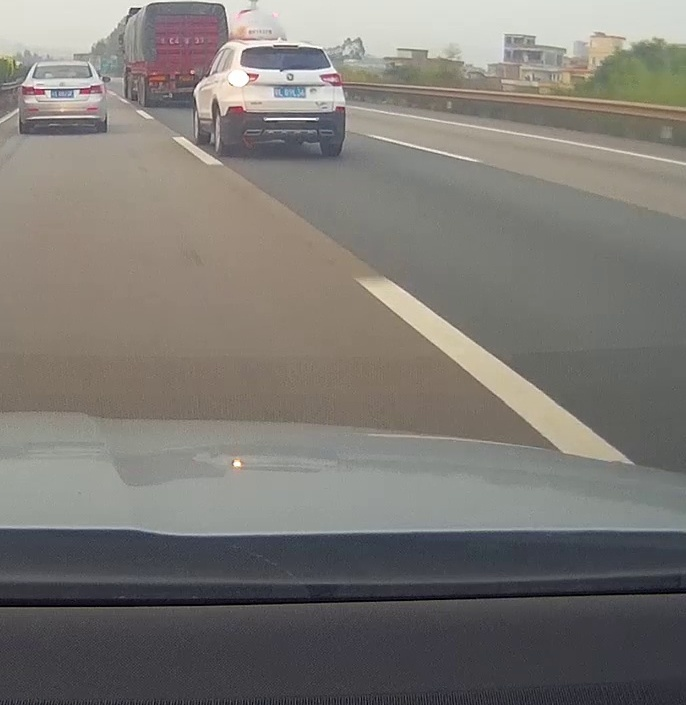L_light: (229, 70, 259, 87), (22, 86, 45, 95)
R_light: (320, 72, 343, 86), (79, 83, 104, 94)
T_light: (273, 44, 299, 49), (57, 64, 67, 67)
day-left: (227, 40, 345, 156)
day-no: (19, 60, 107, 133)
